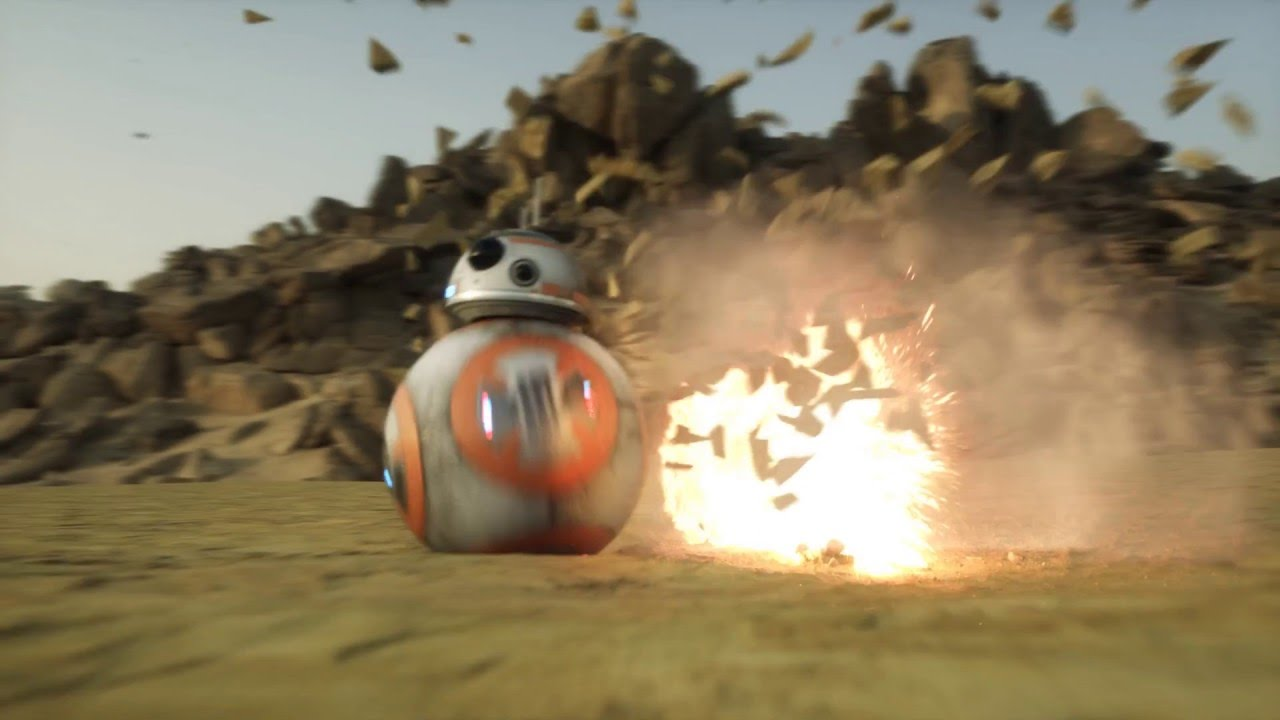bb8: (379, 225, 651, 556)
